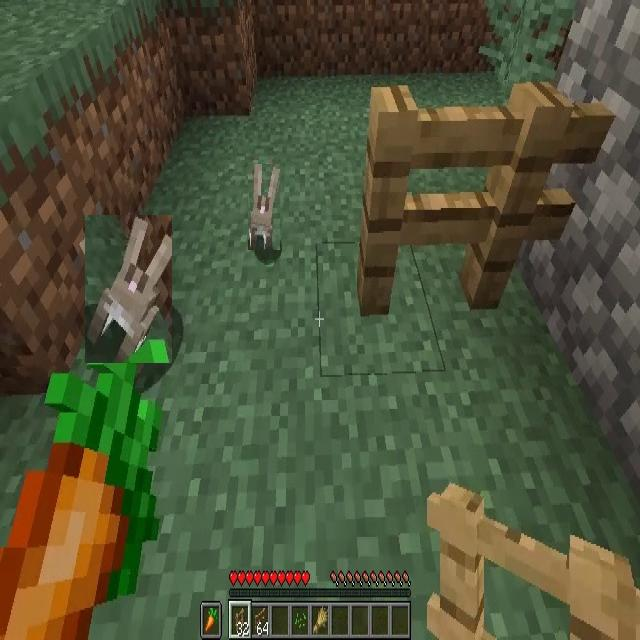rabbit: (85, 215, 172, 363), (248, 164, 280, 250)
